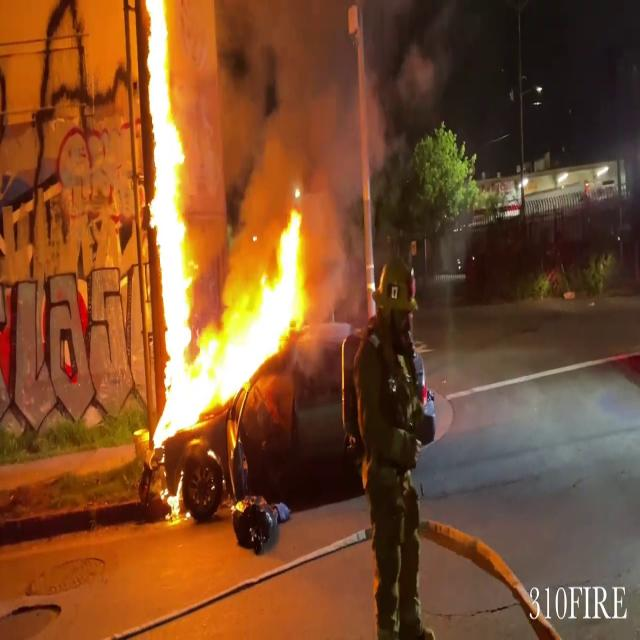Fire: (142, 206, 326, 446), (142, 1, 204, 442)
Smoke: (190, 0, 418, 276)
